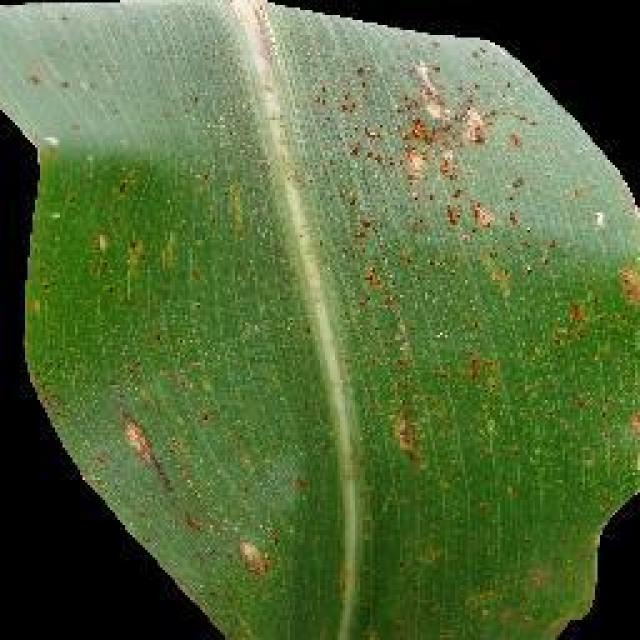Corn Common Rust: (398, 42, 602, 598)
